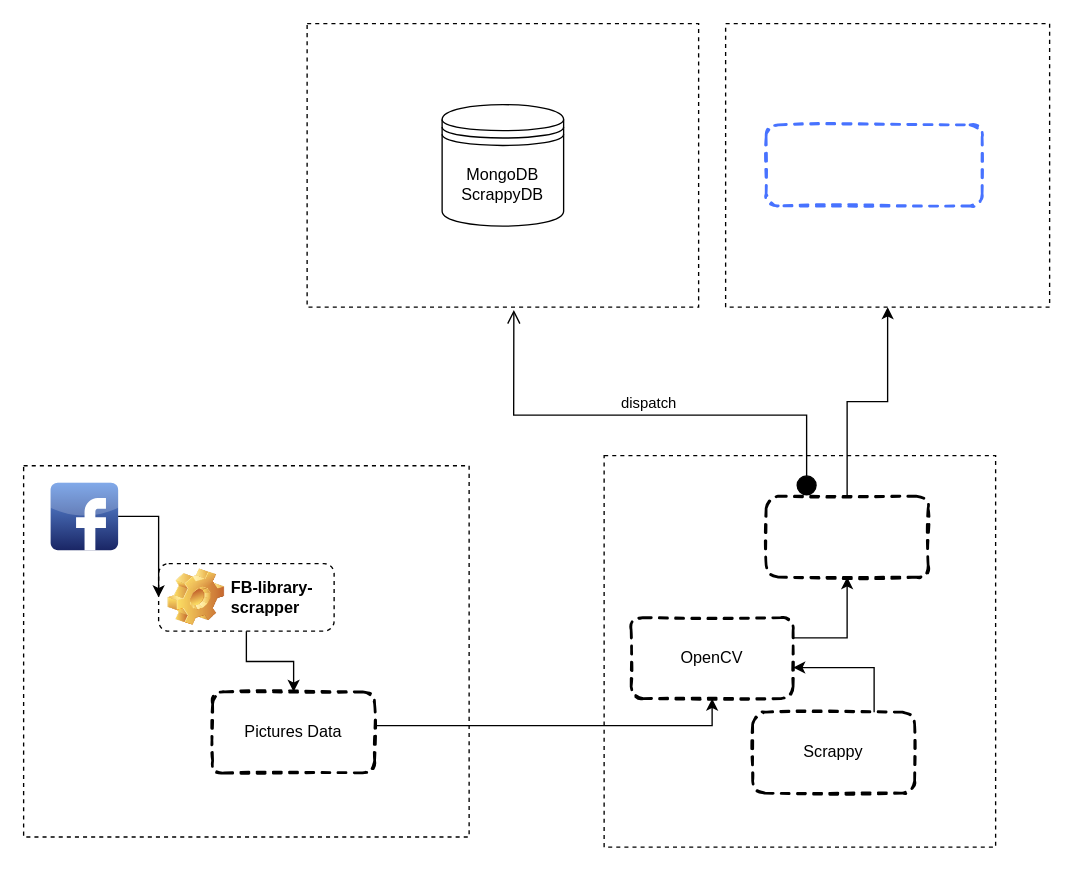
Image size: 1073x871. Some labels were removed from this diagram. Here are the shapes that lost their labels. From the top down, the box of each, then its label:
(764, 123, 983, 207): React-Dashboard
(764, 494, 929, 578): Django
